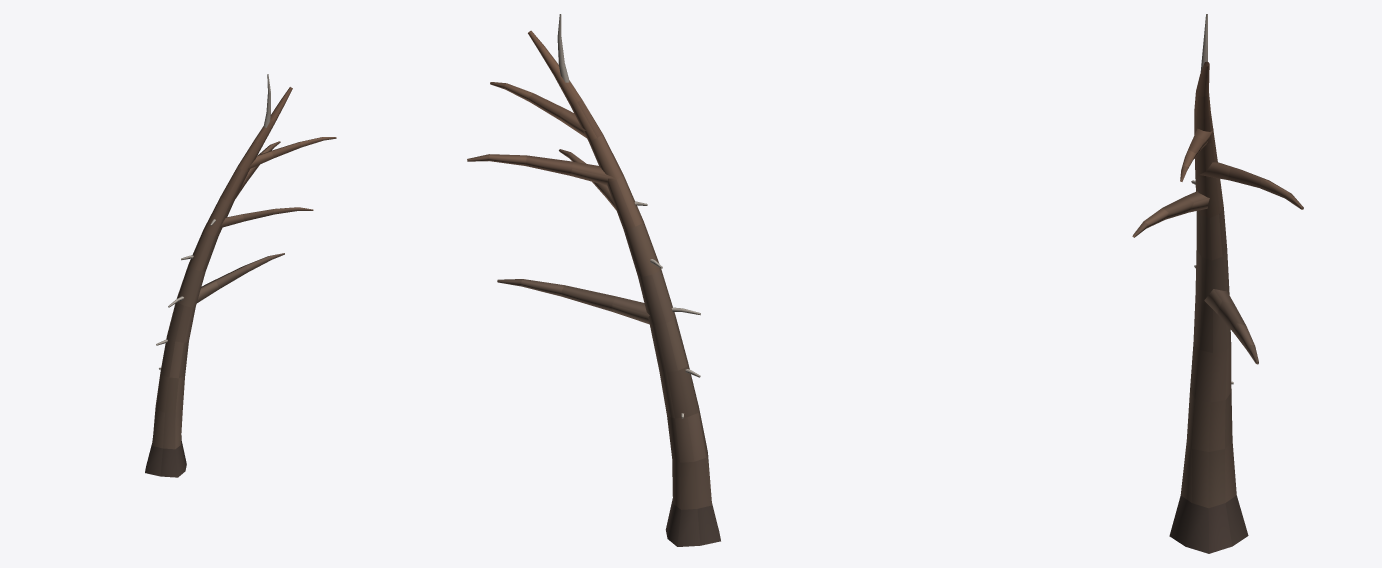
The model's file is LonePine_bark.glb.
3 views of the same model, side by side, from view 1: azimuth 30°, elevation 25°; view 2: azimuth 150°, elevation 25°; view 3: azimuth 270°, elevation 25° (orthographic). The views are drawn at different scales.
Parts seen in each view (by area): view 1: LonePine_bark; view 2: LonePine_bark; view 3: LonePine_bark.
Boxes of the visible parts, bbox=[...] form: LonePine_bark: bbox=[145, 74, 336, 477]; LonePine_bark: bbox=[467, 14, 720, 546]; LonePine_bark: bbox=[1132, 14, 1303, 553].
Bounding box in the file's own units: 35.23 × 31.17 × 14.87.
